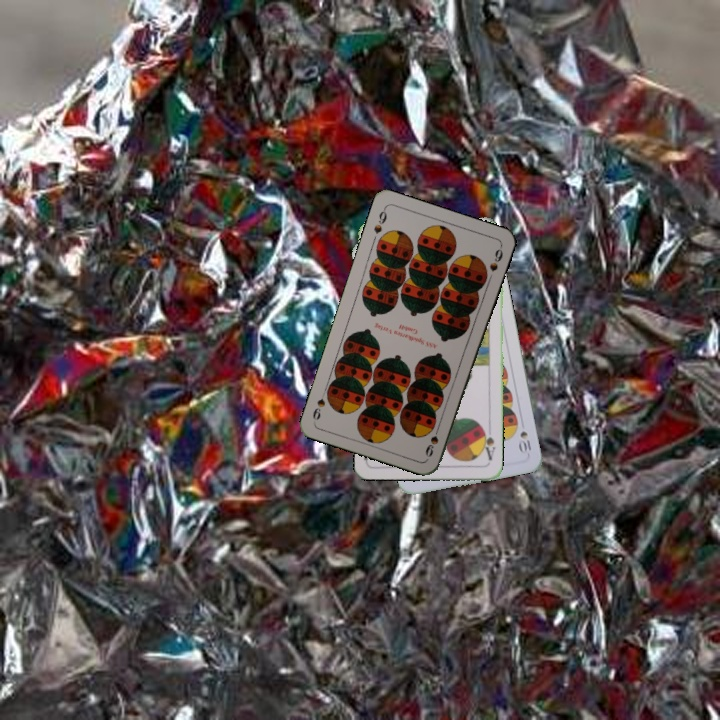S10: (516, 427, 534, 454)
S9: (421, 421, 443, 460), (370, 204, 389, 236)
SA: (478, 424, 497, 463)
